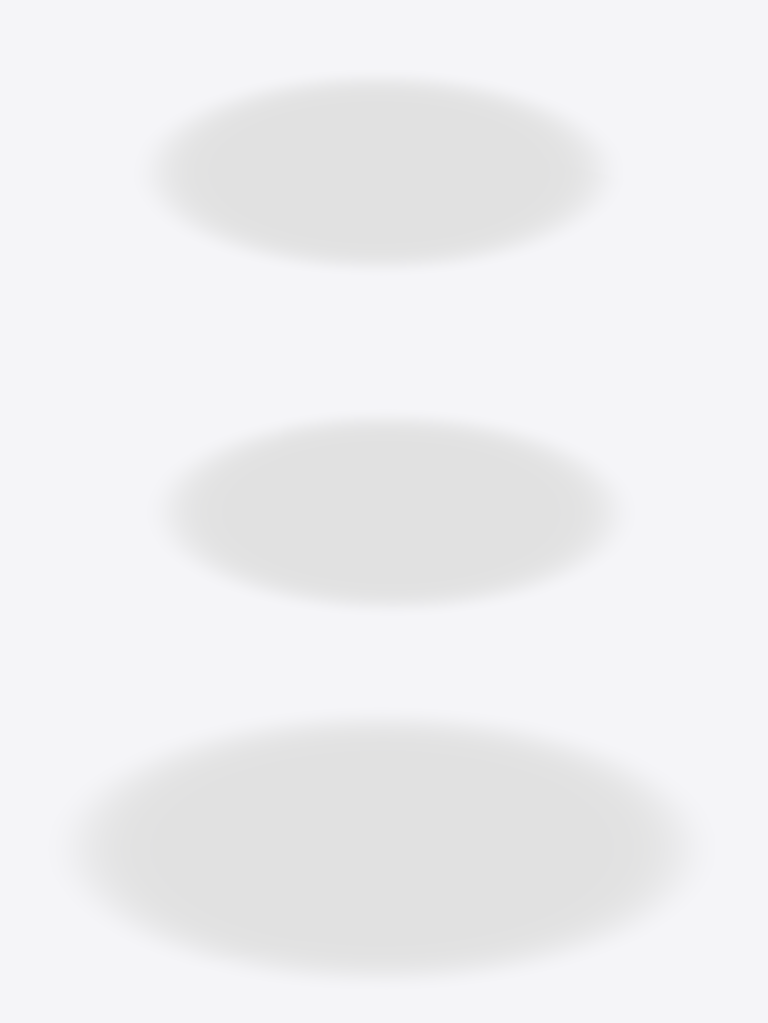
The model's file is ocean.glb.
3 renders of one model, top to bottom at view 1: azimuth 30°, elevation 25°; view 2: azimuth 150°, elevation 25°; view 3: azimuth 270°, elevation 25°, orthographic. The views are drawn at different scales.
Visible parts, largest first — view 1: Cube.000_0; view 2: Cube.000_0; view 3: Cube.000_0.
Part boxes in pixels (left/top/right/bottom): Cube.000_0: left=145, top=74, right=612, bottom=270; Cube.000_0: left=158, top=414, right=623, bottom=610; Cube.000_0: left=63, top=713, right=700, bottom=982.
Bounding box in the file's own units: 6.05 × 1.34e-15 × 6.05.
1 material, 1 textured.
